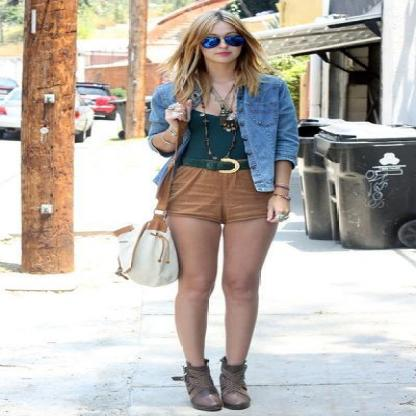bag: (115, 214, 178, 286)
jacket: (145, 58, 318, 191)
shirt: (187, 108, 247, 153)
shoe: (172, 358, 252, 407)
shorts: (165, 166, 277, 232)
sunglass: (202, 35, 232, 48)
